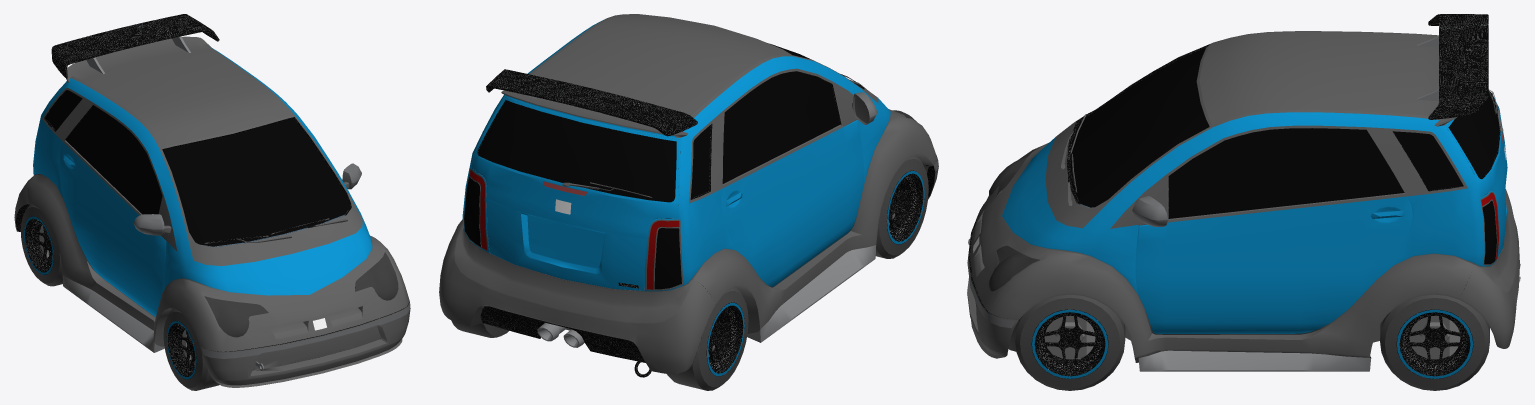
3 views of the same model, side by side, from view 1: azimuth 30°, elevation 25°; view 2: azimuth 150°, elevation 25°; view 3: azimuth 270°, elevation 25° (orthographic). The views are drawn at different scales.
Visible parts, largest first — view 1: SketchUp_058, instance_4, SketchUp_055, instance_9, instance_10, instance_0_026, SketchUp_037, group_11, SketchUp_040, SketchUp_102, instance_0_024, group_6 (+11 smaller); view 2: SketchUp_055, SketchUp_058, SketchUp_043, instance_9, instance_7, instance_10, group_11, SketchUp_102, SketchUp_054, instance_0_024, SketchUp_016, SketchUp_025 (+16 smaller); view 3: SketchUp_058, SketchUp_055, instance_9, instance_8, instance_4, group_11, SketchUp_103, SketchUp_009, SketchUp_029, instance_0_026, instance_0_023, instance_7 (+19 smaller).
Boxes of the visible parts, x1,y1,x2,y2 form: SketchUp_058: [33, 47, 372, 317]; instance_4: [162, 118, 350, 246]; SketchUp_055: [14, 174, 409, 351]; instance_9: [66, 36, 292, 146]; instance_10: [66, 105, 162, 214]; instance_0_026: [70, 44, 362, 266]; SketchUp_037: [200, 301, 410, 387]; group_11: [51, 14, 219, 78]; SketchUp_040: [252, 326, 380, 370]; SketchUp_102: [62, 275, 164, 352]; instance_0_024: [42, 88, 177, 251]; group_6: [204, 296, 268, 337]; SketchUp_055: [439, 109, 937, 373]; SketchUp_058: [462, 20, 890, 291]; SketchUp_043: [471, 95, 680, 290]; instance_9: [501, 14, 789, 136]; instance_7: [478, 100, 676, 202]; instance_10: [722, 71, 839, 183]; group_11: [486, 69, 697, 136]; SketchUp_102: [747, 245, 876, 342]; SketchUp_054: [480, 286, 707, 374]; instance_0_024: [689, 68, 857, 203]; SketchUp_016: [666, 287, 748, 390]; SketchUp_025: [875, 155, 928, 258]; SketchUp_058: [1002, 112, 1499, 333]; SketchUp_055: [970, 143, 1519, 362]; instance_9: [1199, 32, 1456, 126]; instance_8: [1169, 128, 1404, 218]; instance_4: [1070, 48, 1209, 207]; group_11: [1428, 14, 1488, 119]; SketchUp_103: [1138, 350, 1371, 371]; SketchUp_009: [1015, 294, 1125, 390]; SketchUp_029: [1380, 294, 1489, 390]; instance_0_026: [1045, 31, 1440, 228]; instance_0_023: [1110, 125, 1467, 228]; instance_7: [1448, 92, 1499, 178].
Size of the model in its own units: 1.47 by 2.46 by 1.35.
